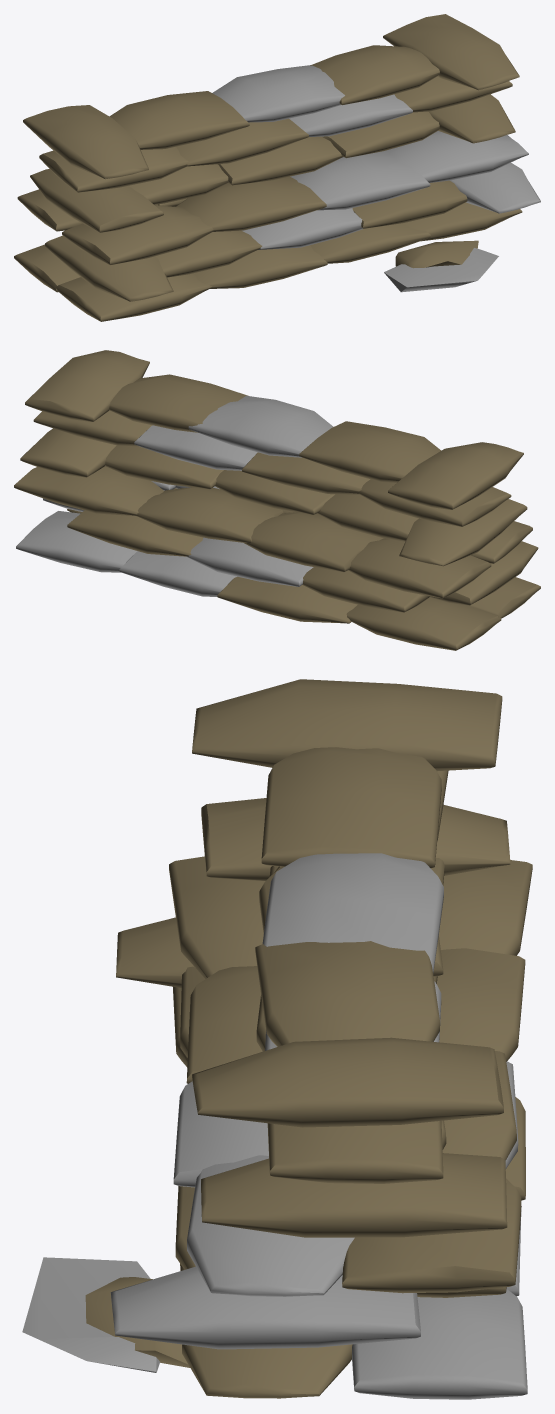
Rendered from Sandbag_Wall_2m.fbx.
3 views of the same model, one above another, from view 1: azimuth 30°, elevation 25°; view 2: azimuth 150°, elevation 25°; view 3: azimuth 270°, elevation 25° (orthographic). The views are drawn at different scales.
Parts seen in each view (by area): view 1: Sandbag_Wall_2m_LOD0; view 2: Sandbag_Wall_2m_LOD0; view 3: Sandbag_Wall_2m_LOD0.
Boxes of the visible parts, bbox=[...] form: Sandbag_Wall_2m_LOD0: bbox=[14, 14, 540, 321]; Sandbag_Wall_2m_LOD0: bbox=[14, 350, 540, 650]; Sandbag_Wall_2m_LOD0: bbox=[22, 679, 532, 1399].
Size of what is drawn, in the model's own units: 2.09 by 0.785 by 1.04.
